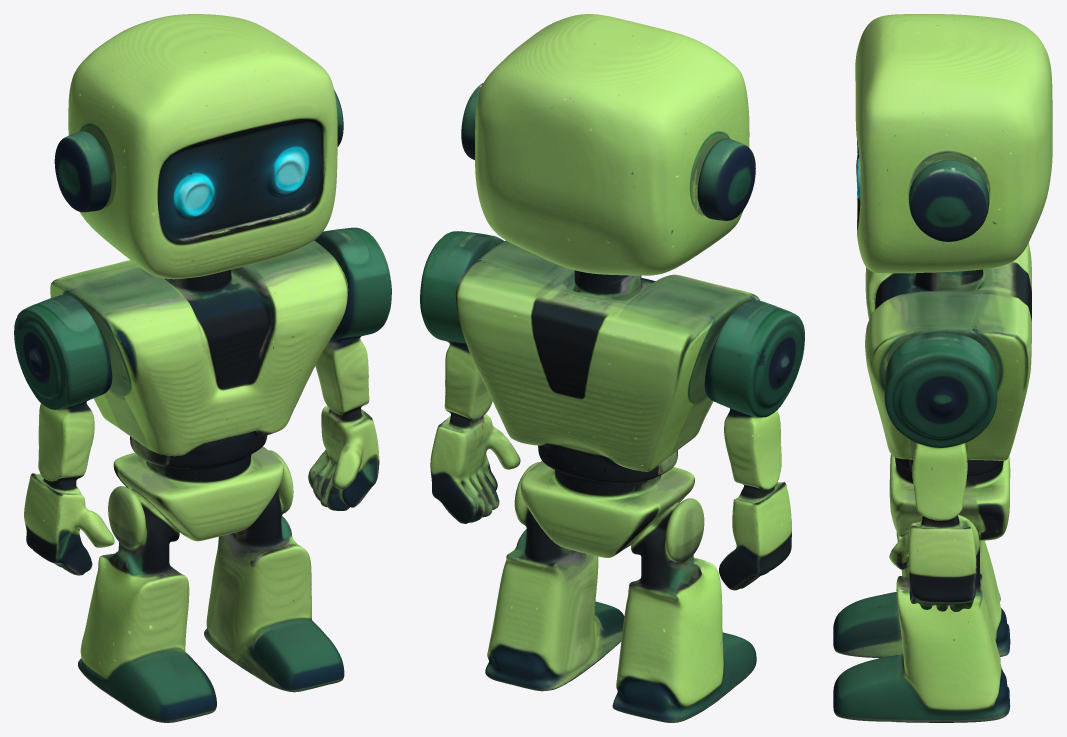
The model's file is Green_Bot_Explorer.glb.
3 views of the same model, side by side, from view 1: azimuth 30°, elevation 25°; view 2: azimuth 150°, elevation 25°; view 3: azimuth 270°, elevation 25° (orthographic).
Size of the model in its own units: 1.14 by 2 by 0.6255.
Materials: 1 (1 with a texture image).
